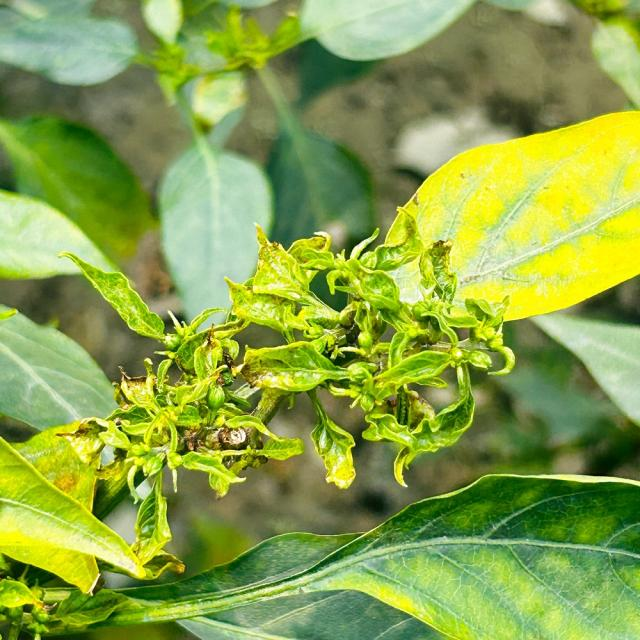Chilli_Leaf_Curl: (1, 106, 638, 634), (18, 471, 639, 638), (223, 218, 515, 489), (374, 108, 638, 326), (0, 421, 152, 596), (0, 305, 120, 431), (56, 250, 167, 343)
